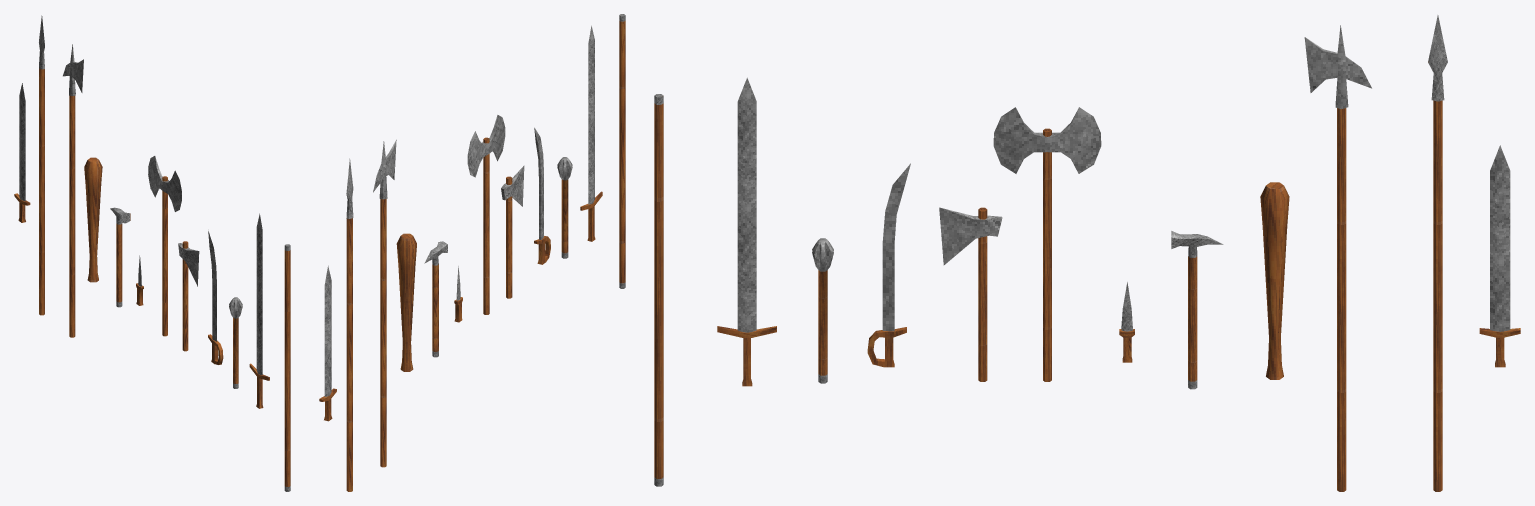
The model's file is weapons.fbx.
3 renders of one model, left to right at view 1: azimuth 30°, elevation 25°; view 2: azimuth 150°, elevation 25°; view 3: azimuth 270°, elevation 25°, orthographic. The views are drawn at different scales.
Parts seen in each view (by area): view 1: Halberd, Great Axe, Spear, Staff, Club, Two-handed Sword, Axe, One-handed Sword, Warhammer, Sabre, Mace; view 2: Halberd, Great Axe, Spear, Club, Staff, Two-handed Sword, Axe, One-handed Sword, Warhammer, Sabre, Mace; view 3: Great Axe, Halberd, Two-handed Sword, Spear, One-handed Sword, Staff, Club, Axe, Sabre, Warhammer, Mace.
Part boxes in pixels (<box>): Halberd: <box>63,44,83,337</box>; Great Axe: <box>148,156,181,336</box>; Spear: <box>39,15,44,315</box>; Staff: <box>284,244,290,491</box>; Club: <box>84,157,102,282</box>; Two-handed Sword: <box>249,213,269,408</box>; Axe: <box>178,241,199,351</box>; One-handed Sword: <box>14,83,30,222</box>; Warhammer: <box>110,207,130,307</box>; Sabre: <box>208,231,223,364</box>; Mace: <box>229,297,242,388</box>; Halberd: <box>373,139,396,467</box>; Great Axe: <box>467,115,505,314</box>; Spear: <box>346,158,353,491</box>; Club: <box>396,233,416,371</box>; Staff: <box>619,14,625,288</box>; Two-handed Sword: <box>580,25,602,241</box>; Axe: <box>501,165,524,298</box>; One-handed Sword: <box>319,265,336,421</box>; Warhammer: <box>424,241,447,357</box>; Sabre: <box>534,127,550,264</box>; Mace: <box>557,157,572,258</box>; Great Axe: <box>993,107,1101,381</box>; Halberd: <box>1304,25,1371,491</box>; Two-handed Sword: <box>717,77,776,386</box>; Spear: <box>1428,15,1447,491</box>; One-handed Sword: <box>1479,145,1520,367</box>; Staff: <box>654,94,663,486</box>; Club: <box>1260,182,1289,379</box>; Axe: <box>939,207,1002,381</box>; Sabre: <box>867,163,910,367</box>; Warhammer: <box>1171,231,1223,389</box>; Mace: <box>812,238,833,383</box>.
Size of the model in its own units: 10.99 by 229 by 377.
1 material, 1 textured.
